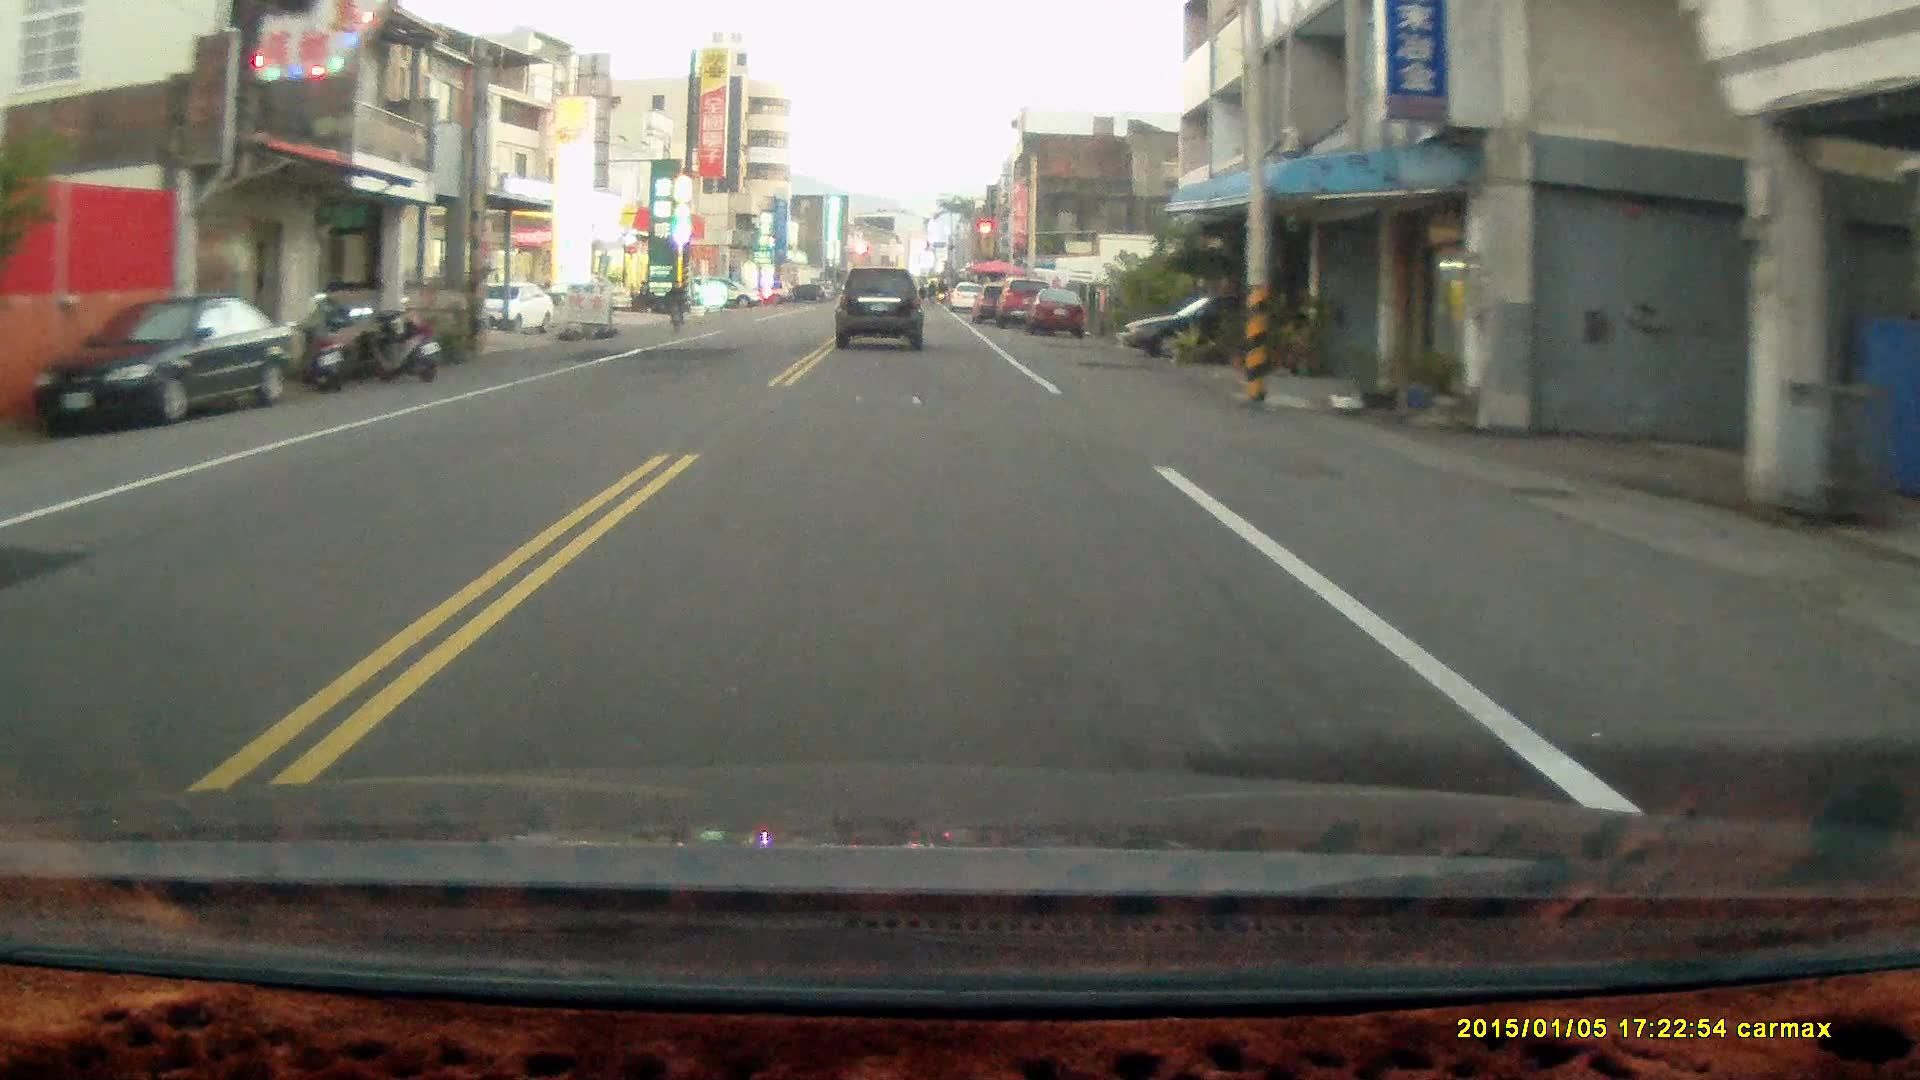rider: (662, 277, 687, 337)
vehicle: (35, 295, 304, 428), (835, 265, 926, 353), (461, 281, 556, 334)
